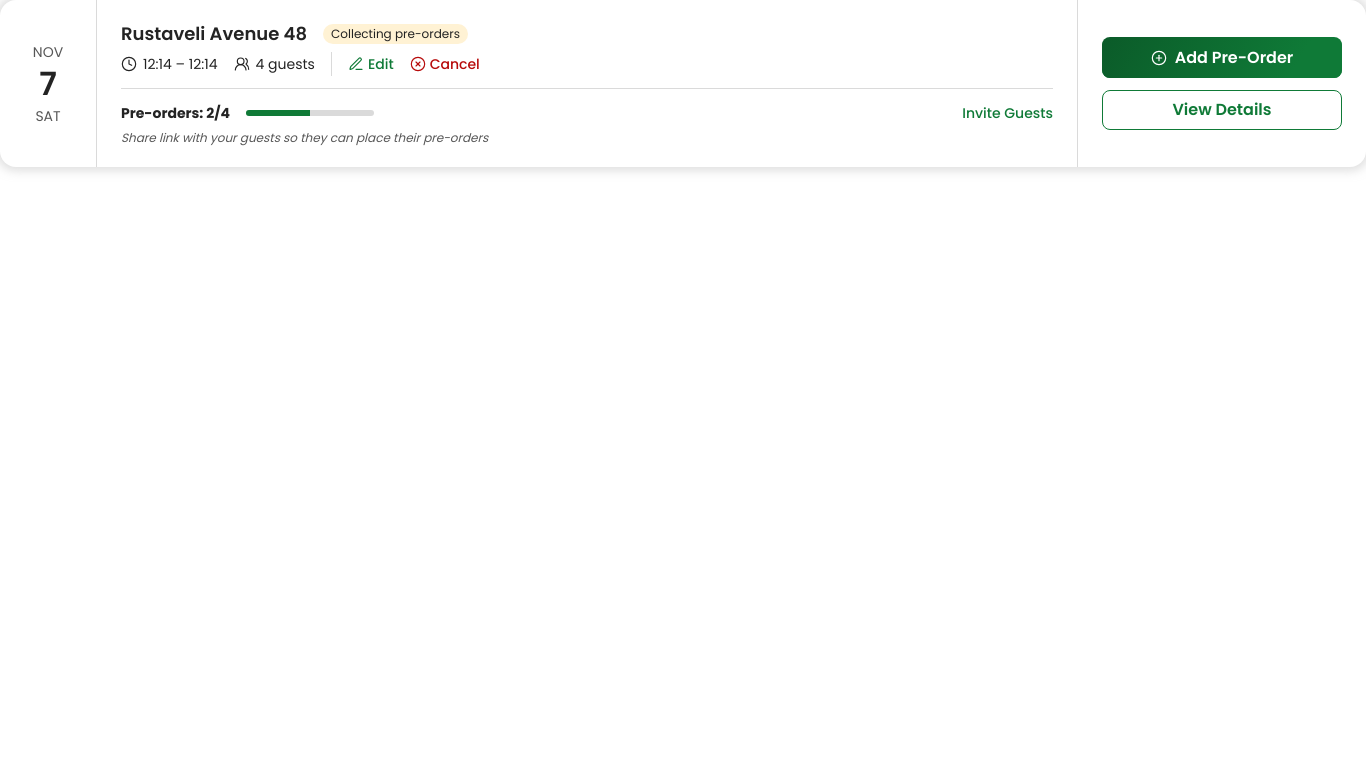
it: CardReservationComponent › US20 · group pre-order line and actions › AC6: Invite Guests opens the "Guest Invite link" modal
Click the button "Invite Guests": (1008, 113) top-left (962, 101), bottom-right (1053, 125)
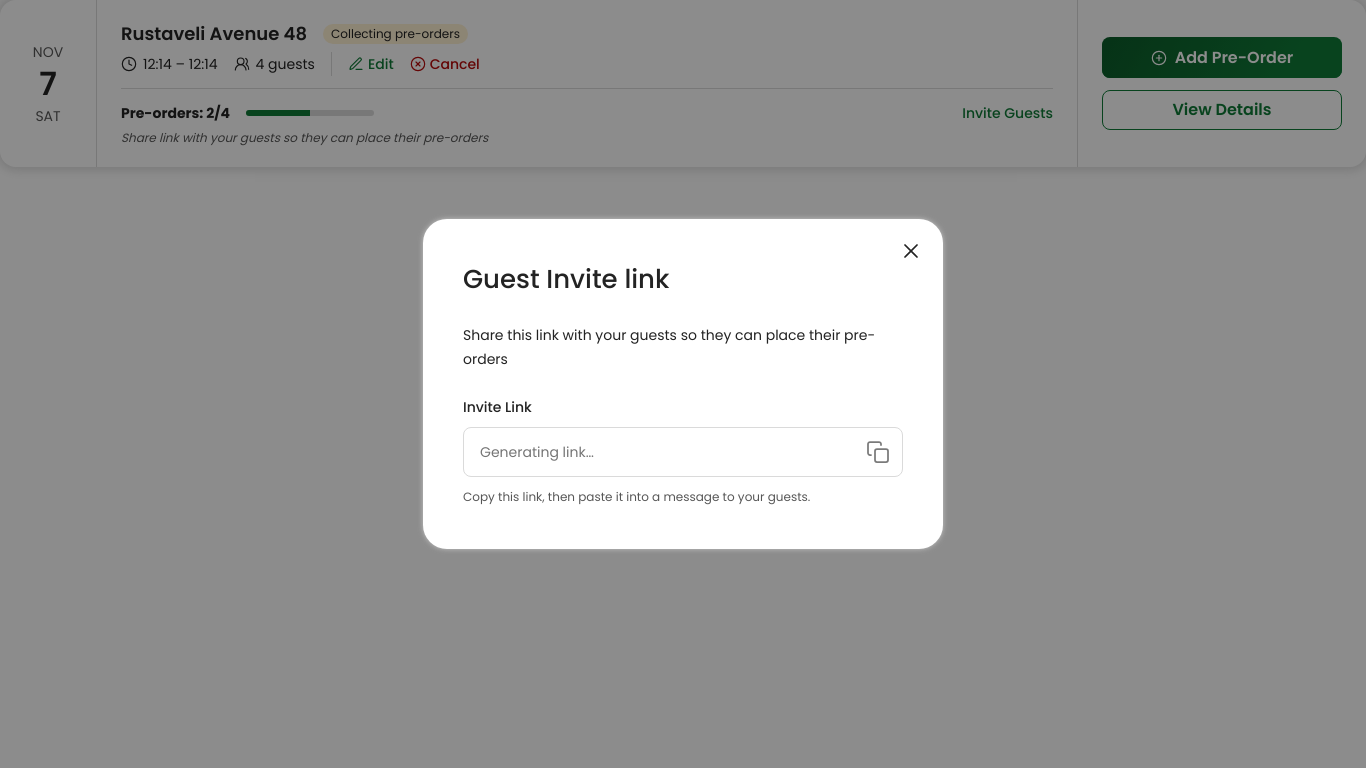
Expected: the text "Guest Invite link" is shown, top-left (463, 261), bottom-right (669, 297)
